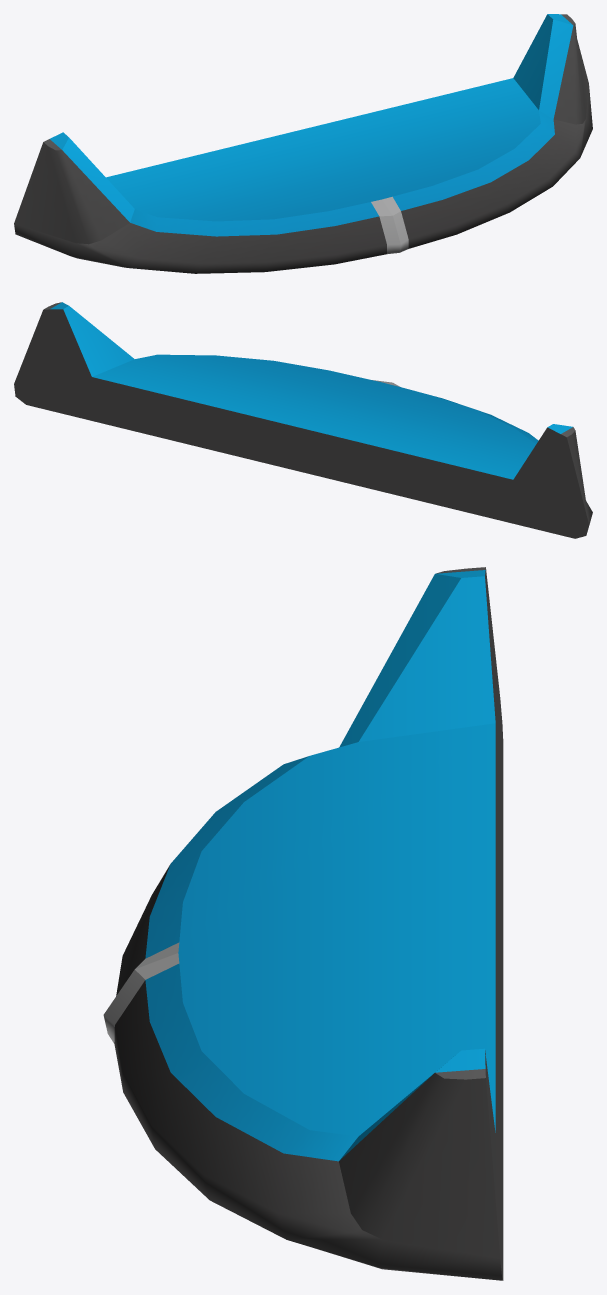
The model's file is Car_08_FrontBumper_Simple.fbx.
The picture shows the model from 3 angles, top to bottom: view 1: azimuth 30°, elevation 25°; view 2: azimuth 150°, elevation 25°; view 3: azimuth 270°, elevation 25°; orthographic projection. The views are drawn at different scales.
Visible parts, largest first — view 1: Car_08_FrontBumper_Simple; view 2: Car_08_FrontBumper_Simple; view 3: Car_08_FrontBumper_Simple.
Boxes of the visible parts, left/top/right/bottom form: Car_08_FrontBumper_Simple: left=14, top=14, right=592, bottom=273; Car_08_FrontBumper_Simple: left=14, top=302, right=592, bottom=538; Car_08_FrontBumper_Simple: left=103, top=567, right=503, bottom=1280.
Size of the model in its own units: 210 by 63.35 by 39.93.
